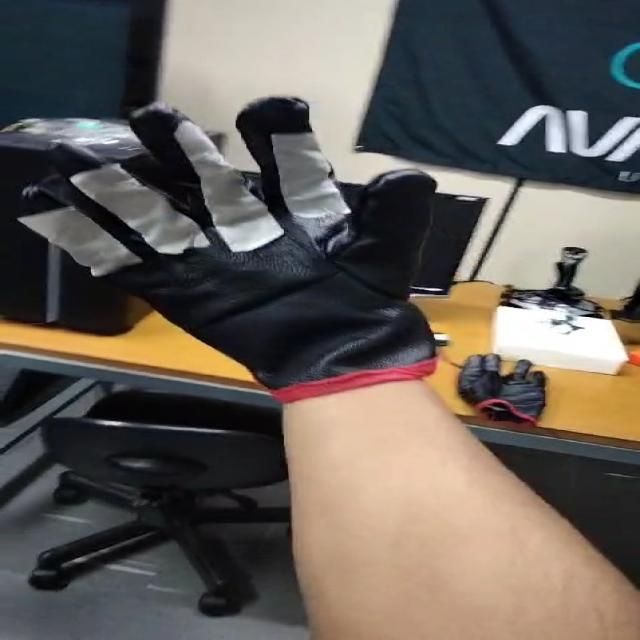Gloves: (20, 96, 442, 388)
